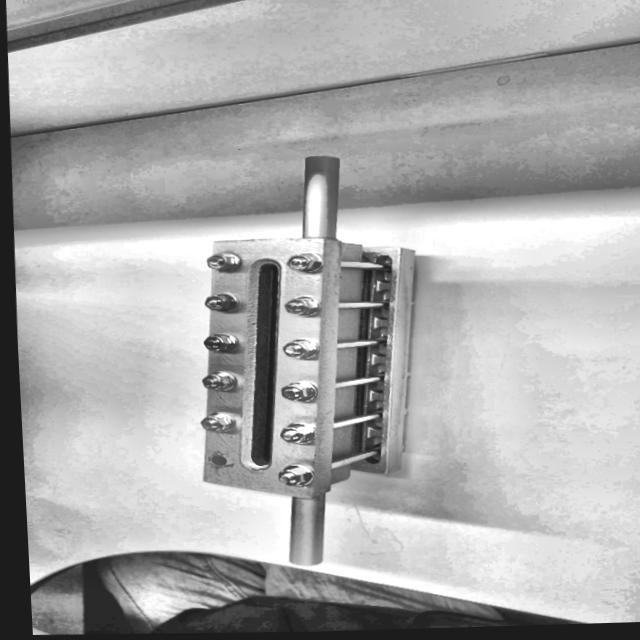ShuiWeiQi_11: (161, 147, 436, 552)
